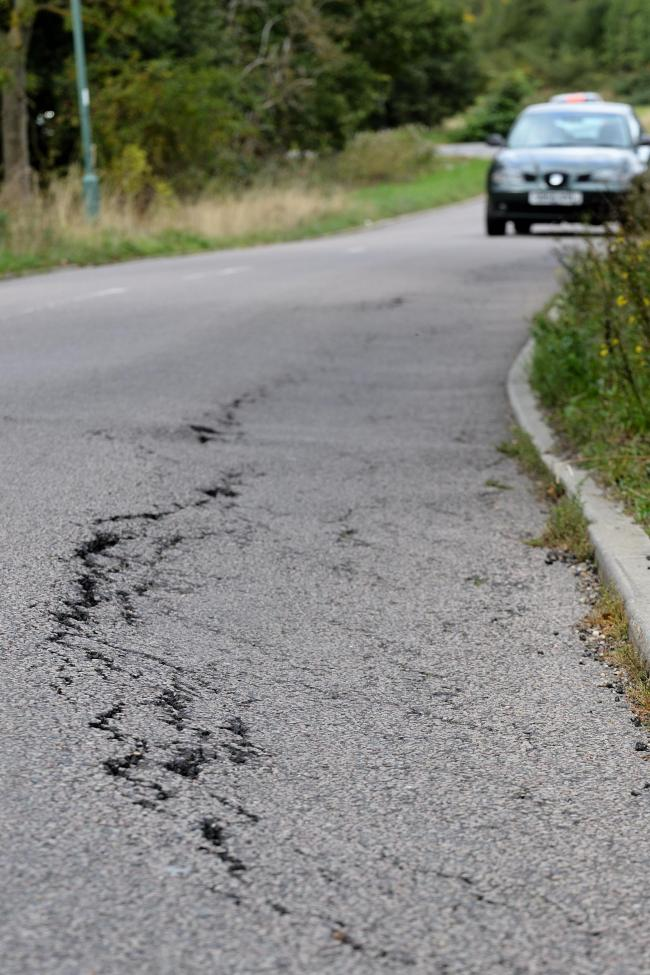pothole: (26, 478, 290, 921)
